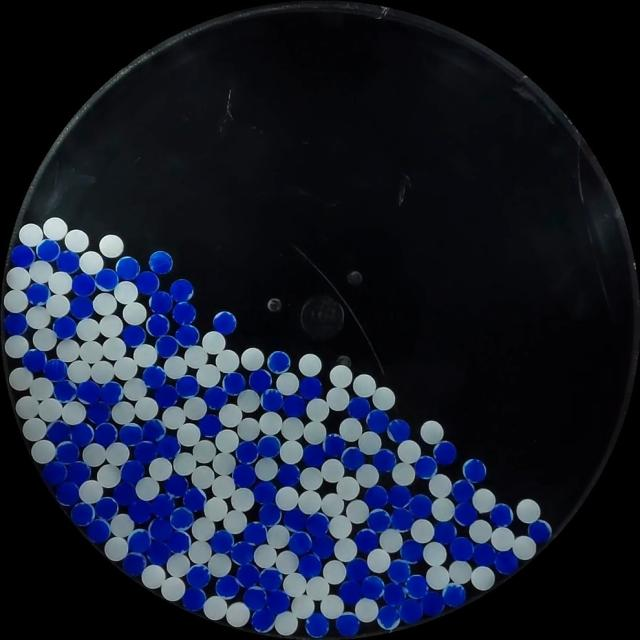pmmma-azul: (420, 591, 446, 617), (85, 518, 111, 543), (164, 529, 190, 554), (398, 598, 423, 624), (449, 536, 474, 561), (185, 564, 210, 589), (42, 461, 67, 486), (115, 256, 140, 281), (22, 348, 47, 373), (453, 500, 478, 525), (265, 590, 290, 615), (251, 607, 276, 632), (163, 473, 189, 497), (182, 586, 206, 612), (134, 271, 160, 295), (94, 421, 118, 447), (150, 516, 174, 542), (45, 420, 71, 444), (377, 604, 401, 630), (148, 250, 174, 274), (210, 529, 234, 554), (305, 612, 329, 637), (243, 521, 267, 546), (388, 484, 412, 509), (236, 563, 260, 588), (288, 531, 313, 555), (298, 553, 322, 578), (198, 413, 222, 438), (335, 612, 360, 636), (76, 380, 101, 404), (282, 393, 306, 418), (494, 550, 519, 574), (404, 574, 428, 599), (10, 244, 35, 268), (408, 494, 432, 519), (113, 481, 138, 505), (528, 519, 552, 544), (311, 533, 335, 558), (302, 443, 326, 468), (128, 499, 152, 524), (71, 273, 96, 297), (70, 502, 95, 526), (172, 302, 197, 326), (339, 579, 363, 604), (65, 461, 90, 485), (86, 400, 111, 424), (442, 582, 466, 607), (265, 590, 290, 614), (43, 358, 68, 382), (56, 481, 80, 505), (414, 455, 438, 479), (176, 374, 200, 398), (119, 422, 143, 446), (236, 440, 260, 464), (127, 530, 151, 554), (299, 376, 323, 400), (258, 568, 282, 592), (170, 506, 194, 530), (364, 485, 388, 509), (120, 461, 144, 485), (387, 560, 411, 584), (4, 312, 28, 336), (133, 440, 157, 464), (212, 310, 236, 334), (462, 458, 486, 482), (471, 542, 495, 566), (306, 512, 330, 536), (146, 313, 170, 337), (175, 324, 199, 348), (156, 435, 180, 459), (399, 539, 423, 563), (53, 316, 77, 340), (433, 441, 457, 465), (381, 582, 405, 606), (243, 586, 267, 610), (345, 559, 369, 583), (70, 294, 94, 318), (70, 423, 94, 447), (53, 379, 77, 403), (149, 290, 173, 314), (305, 614, 329, 638), (452, 479, 476, 503), (284, 507, 308, 531), (154, 384, 179, 407), (366, 508, 391, 531), (121, 552, 146, 575), (94, 497, 119, 520), (55, 441, 80, 464), (387, 418, 410, 443), (215, 575, 240, 598), (169, 279, 194, 302), (183, 487, 206, 512), (36, 239, 61, 262), (232, 463, 255, 487), (204, 385, 227, 409), (253, 481, 277, 504), (95, 268, 119, 291), (434, 520, 457, 544), (341, 446, 364, 470), (355, 528, 378, 552), (276, 463, 300, 486), (373, 448, 396, 472), (155, 335, 179, 358), (122, 324, 146, 347), (366, 409, 389, 433), (56, 250, 80, 273), (258, 502, 281, 526), (99, 381, 122, 405), (222, 371, 245, 395), (143, 364, 166, 388), (261, 388, 284, 412), (267, 350, 291, 373), (361, 575, 385, 598), (151, 493, 174, 517), (147, 543, 171, 566), (231, 541, 254, 565), (490, 502, 512, 527), (249, 369, 272, 392), (347, 396, 370, 419), (257, 435, 280, 458), (389, 508, 411, 532), (26, 282, 48, 305), (323, 434, 345, 457), (143, 421, 166, 442)
